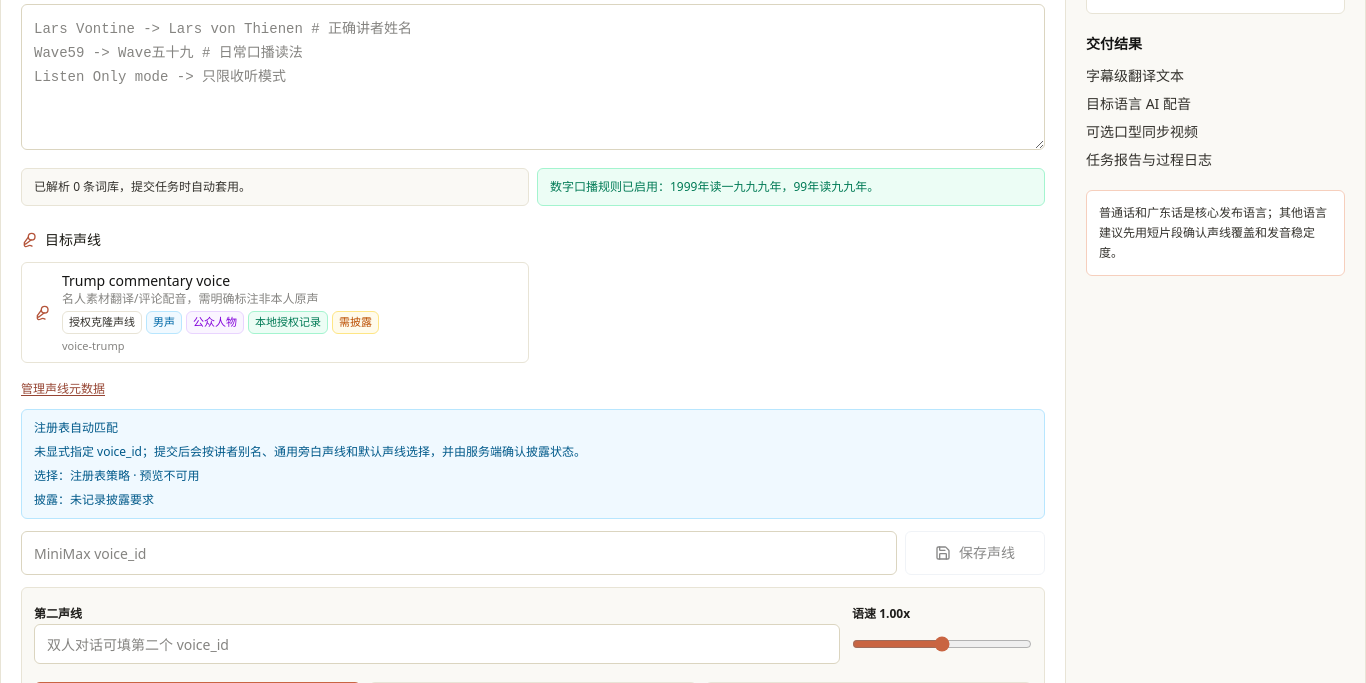
DubbingForm creator assets › shows saved voice usage labels and disclosure requirements before submitting
(page scrolled)
Expected: the text "Trump commentary voice" is shown, [62,271,230,290]
Expected: the text "授权克隆声线" is shown, [62,311,142,334]
Click the button "Trump commentary voice" at [275, 312], box [21,262,529,363]
(page scrolled)
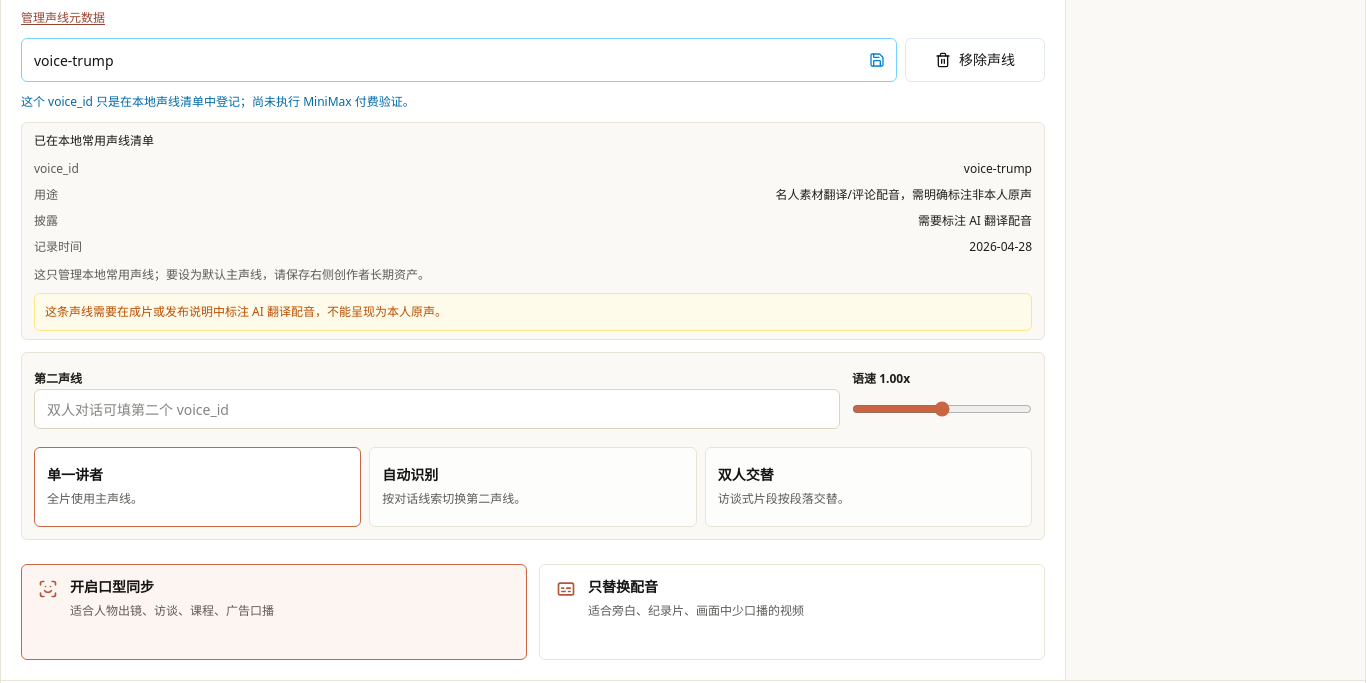
Expected: the text "这个 voice_id 只是在本地声线清单中登记；尚未执行 MiniMax 付费验证。" is shown, [21,93,415,110]
Expected: the text "这条声线需要在成片或发布说明中标注 AI 翻译配音，不能呈现为本人原声。" is shown, [34,293,1032,331]
